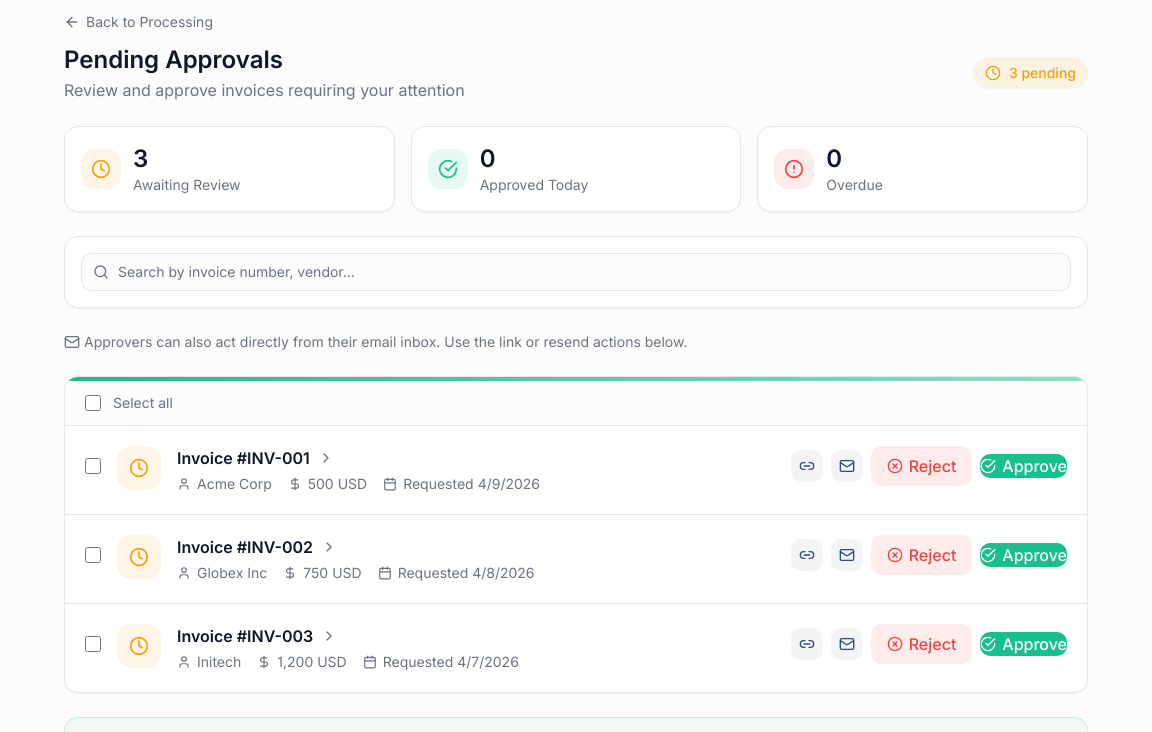
Test: ApprovalsPage bulk actions › select-all toggles all rows and shows selection count
Expected: the text "Invoice #INV-001" is shown, left=177, top=446, right=310, bottom=470
Note: Click master checkbox to select all
Click the checkbox named "Select all approvals" at point(93, 403), box left=85, top=395, right=101, bottom=411
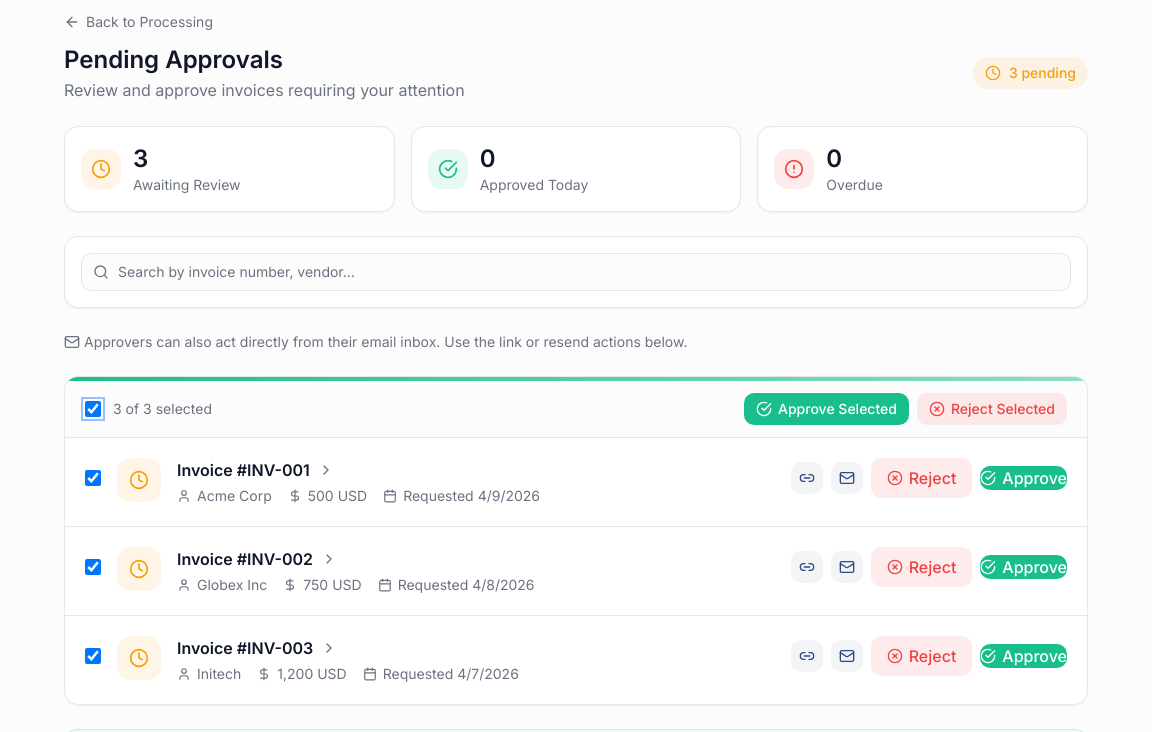
Now the text "3 of 3 selected" is shown, box left=113, top=399, right=212, bottom=419
Note: Click again to deselect all
Click the checkbox named "Select all approvals" at point(93, 409), box left=85, top=401, right=101, bottom=417
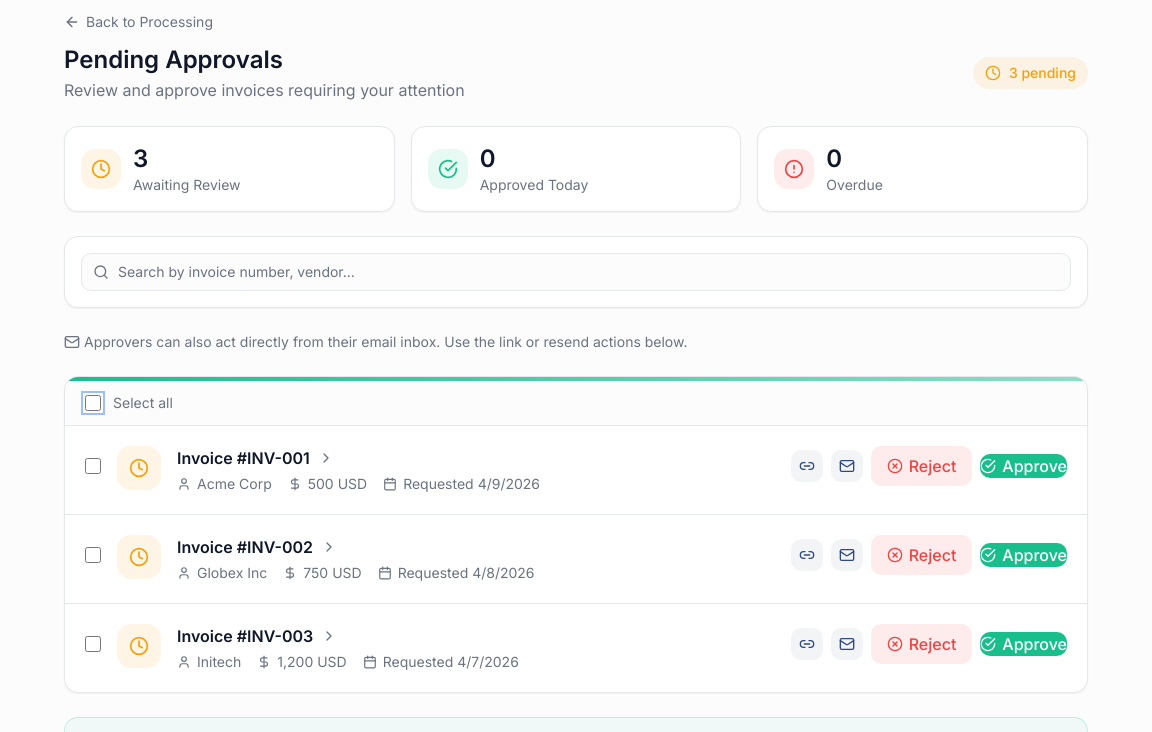
Now the text "Select all" is shown, box left=113, top=393, right=173, bottom=413
